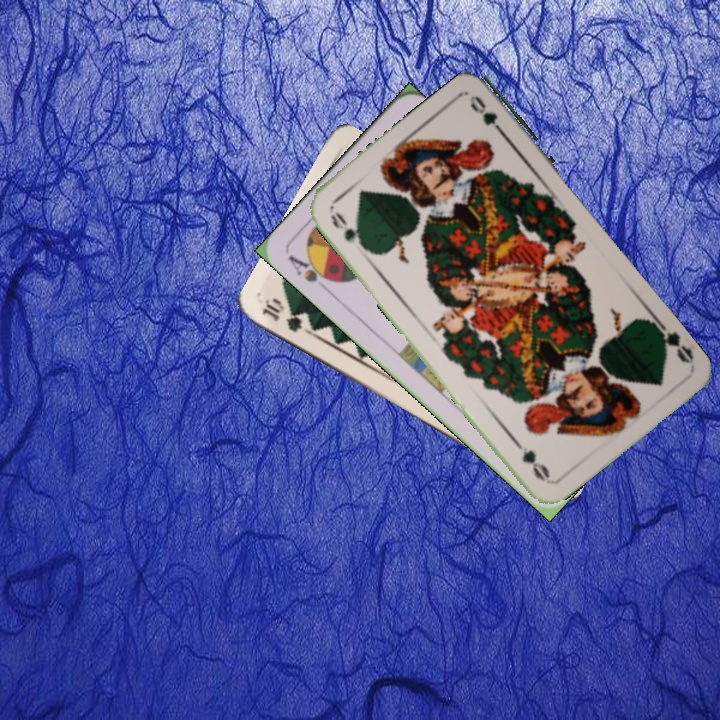G10: (257, 296, 314, 336)
GO: (651, 317, 697, 367), (326, 207, 370, 254)
SA: (283, 250, 339, 294)
